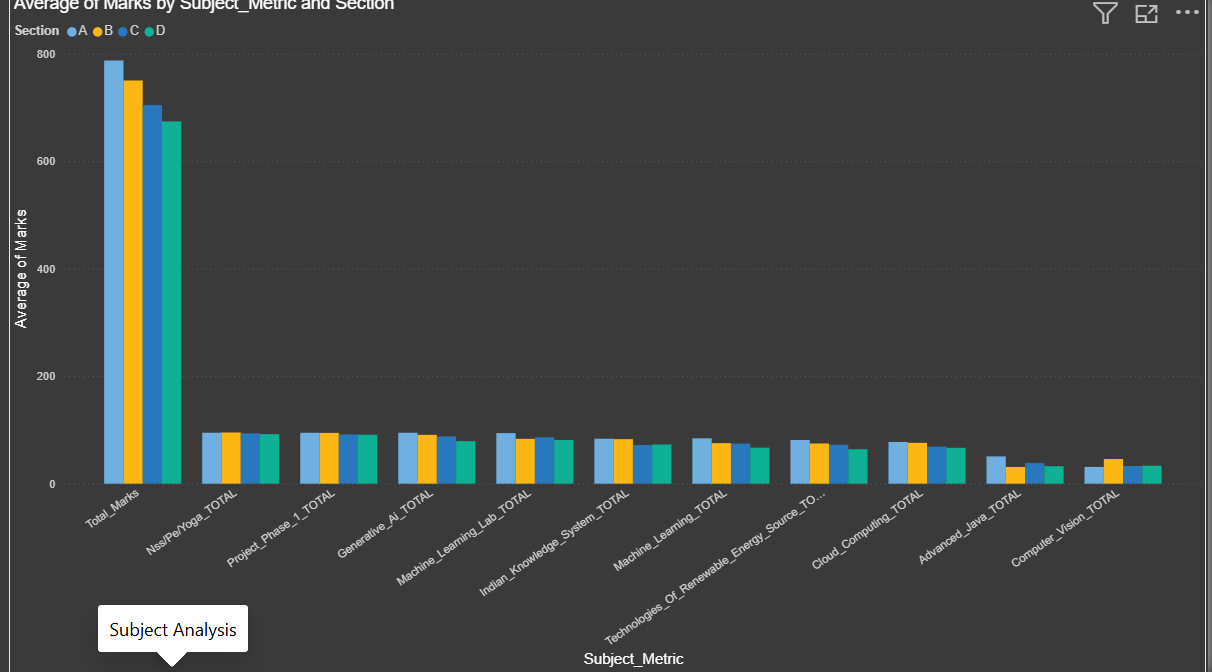

What the dashboard file says about the page in this screenshot:
{"tool":"powerbi","page":{"name":"Subject Analysis","canvas":[1280,720],"ordinal":1},"visuals":[{"type":"clusteredColumnChart","fields":{"Category":["Subject_Detail.Subject_Metric"],"Y":["Avg(Subject_Detail.Marks)"],"Series":["Subject_Detail.Section"]},"box":[9.4,0,1269.9,720],"z":0}]}

Visuals, with their boxes in screenshot pixels (x1, y1, x2, y2), scaled from the page's 1280x720 canvas onto the 1212x672 screenshot:
clusteredColumnChart - Subject_Detail.Subject_Metric x Avg(Subject_Detail.Marks): Rect(9, 0, 1211, 671)
